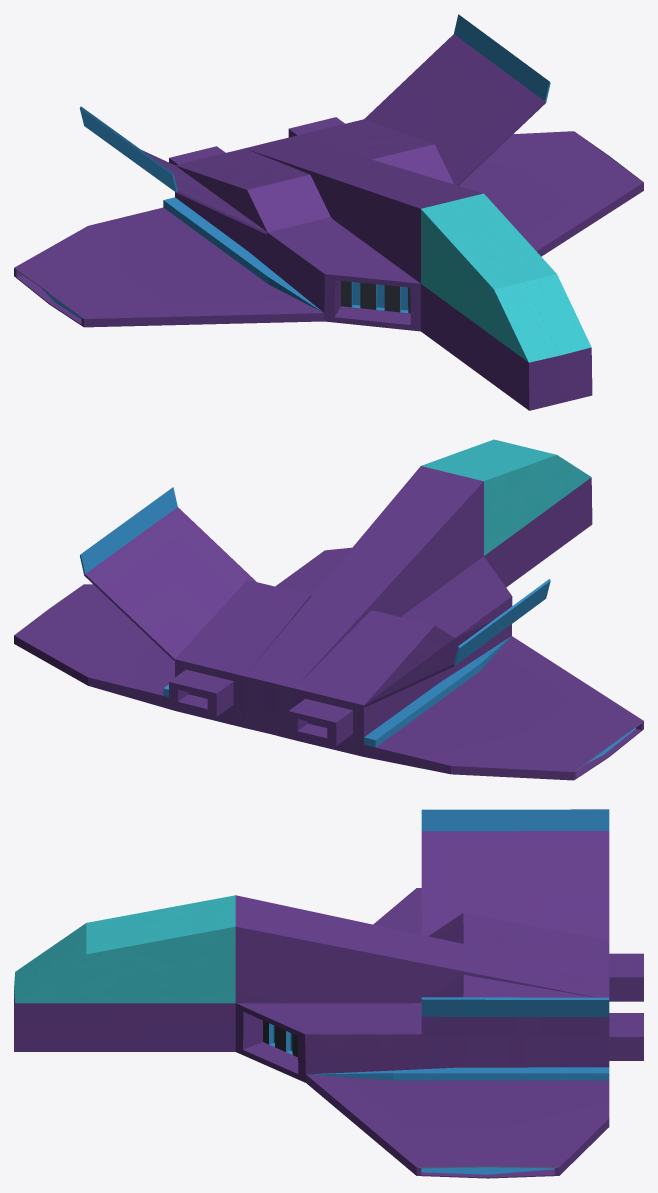
The model's file is nave.fbx.
3 renders of one model, top to bottom at view 1: azimuth 30°, elevation 25°; view 2: azimuth 150°, elevation 25°; view 3: azimuth 270°, elevation 25°, orthographic. The views are drawn at different scales.
Visible parts, largest first — view 1: Cube; view 2: Cube; view 3: Cube.
Boxes of the visible parts, <box> form: Cube: <box>14,14,643,410</box>; Cube: <box>14,439,643,780</box>; Cube: <box>14,809,643,1178</box>.
Size of the model in its own units: 1227 by 280 by 1169.
1 material, 1 textured.
